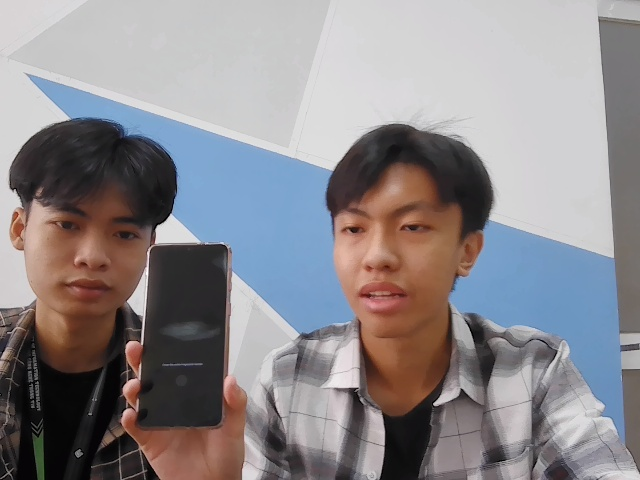human: (328, 122, 495, 339), (4, 111, 174, 322)
phone: (135, 236, 239, 437)
